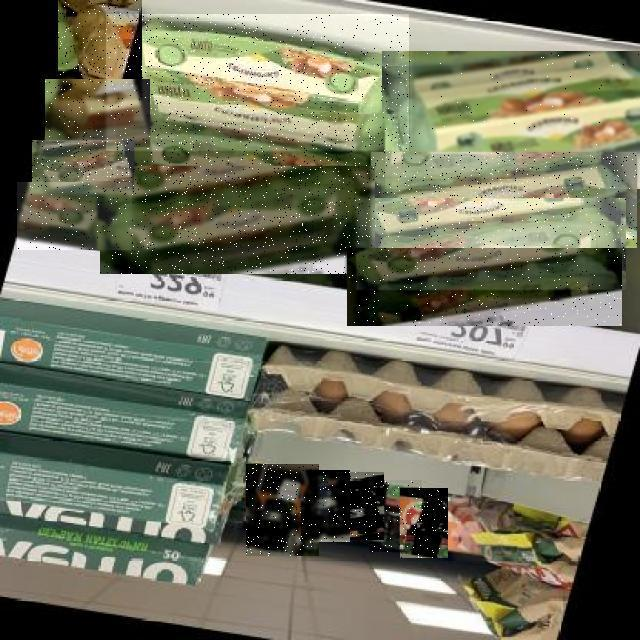Eggs: (106, 14, 412, 151), (385, 51, 640, 189), (100, 166, 375, 274), (116, 115, 392, 211), (371, 152, 637, 248), (357, 199, 627, 291), (347, 248, 622, 326), (58, 0, 142, 100), (18, 182, 134, 250), (45, 79, 150, 147), (246, 464, 319, 556), (32, 140, 134, 194), (369, 480, 422, 552), (330, 472, 384, 540), (301, 470, 350, 542), (400, 488, 448, 558)
